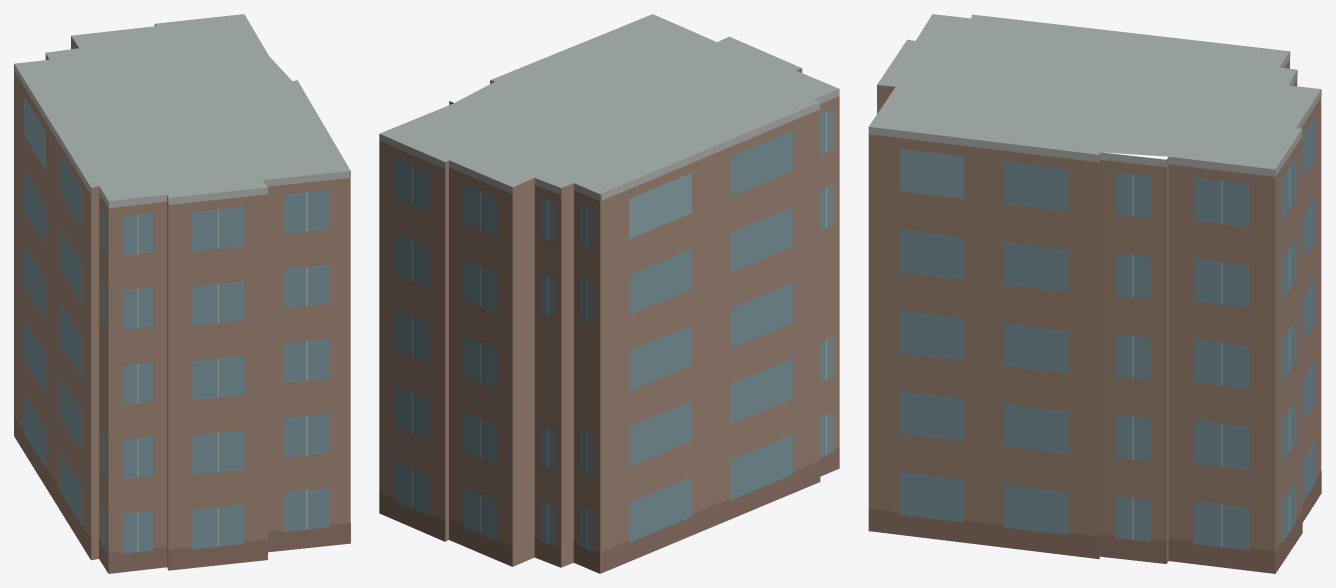
File: survey-upis-32624722.glb
3 views of the same model, side by side, from view 1: azimuth 30°, elevation 25°; view 2: azimuth 150°, elevation 25°; view 3: azimuth 270°, elevation 25° (orthographic). The views are drawn at different scales.
Visible parts, largest first — view 1: survey-upis-32624722.tmp; view 2: survey-upis-32624722.tmp; view 3: survey-upis-32624722.tmp.
Part boxes in pixels (x1=…): survey-upis-32624722.tmp: x1=14, y1=14, x2=350, y2=573; survey-upis-32624722.tmp: x1=379, y1=14, x2=839, y2=573; survey-upis-32624722.tmp: x1=868, y1=14, x2=1321, y2=573.
Size of the model in its own units: 10.82 by 13.1 by 13.31.
